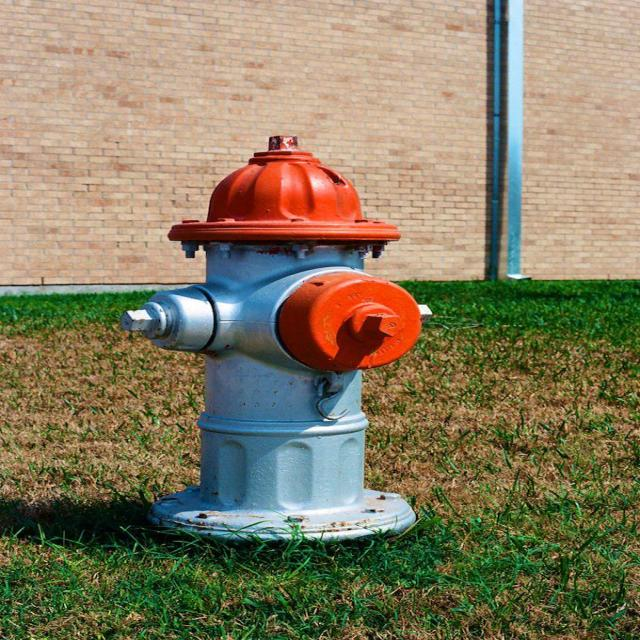fire_hydrant: (123, 136, 419, 562)
